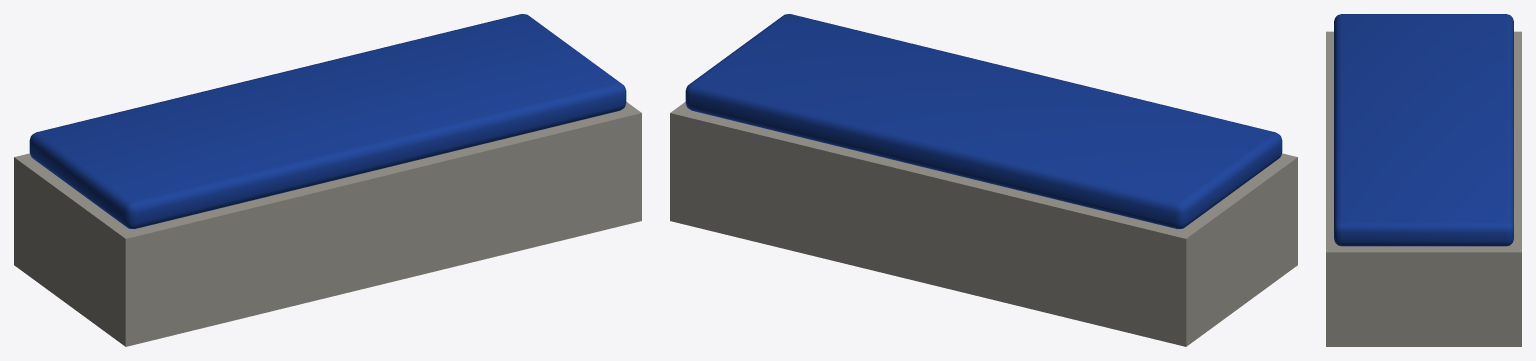
Rendered from police.cell.bed.glb.
3 renders of one model, left to right at view 1: azimuth 30°, elevation 25°; view 2: azimuth 150°, elevation 25°; view 3: azimuth 270°, elevation 25°, orthographic. The views are drawn at different scales.
Visible parts, largest first — view 1: main__concrete, main__plastic_blue; view 2: main__concrete, main__plastic_blue; view 3: main__plastic_blue, main__concrete.
Boxes of the visible parts, <box> form: main__concrete: <box>14,102,641,346</box>; main__plastic_blue: <box>29,14,626,229</box>; main__concrete: <box>670,102,1297,346</box>; main__plastic_blue: <box>685,14,1282,229</box>; main__plastic_blue: <box>1334,14,1513,246</box>; main__concrete: <box>1326,31,1521,346</box>.
Bounding box in the file's own units: 2 × 0.5 × 0.75.
